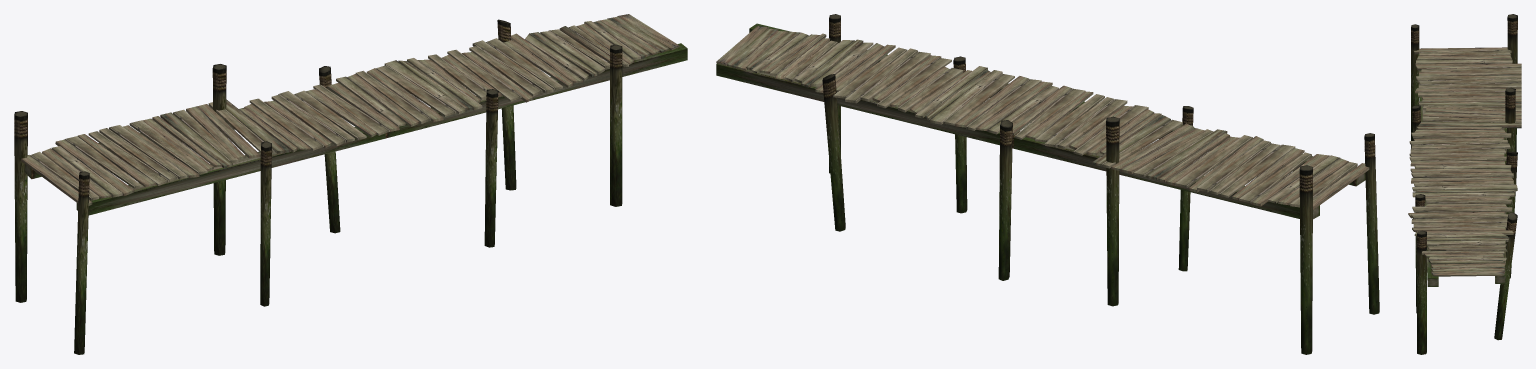
Rendered from pier_walkway.fbx.
3 renders of one model, left to right at view 1: azimuth 30°, elevation 25°; view 2: azimuth 150°, elevation 25°; view 3: azimuth 270°, elevation 25°, orthographic. The views are drawn at different scales.
Visible parts, largest first — view 1: support_1, pylon_13, pylon_2, pylon_5, pylon_22, pylon_23, pylon_33, pylon_16, pylon_15, plank_9, plank_86, plank_88 (+45 smaller); view 2: support_2, pylon_13, pylon_33, pylon_5, pylon_15, pylon_16, pylon_22, pylon_23, plank_9, plank_86, plank_88, plank_13 (+42 smaller); view 3: pylon_2, pylon_16, pylon_5, plank_49, pylon_33, plank_13, plank_92, pylon_13, plank_7, plank_86, plank_8, plank_6 (+58 smaller).
Part boxes in pixels (x1,y1,x2,y2): support_1: (76,43,687,215); pylon_13: (14,111,27,302); pylon_2: (610,44,622,206); pylon_5: (74,171,89,354); pylon_22: (484,89,498,247); pylon_23: (260,141,271,306); pylon_33: (212,64,226,255); pylon_16: (497,19,516,190); pylon_15: (319,66,340,233); plank_9: (376,65,456,116); plank_86: (129,120,207,174); plank_88: (88,131,169,185); support_2: (716,63,1319,219); pylon_13: (1299,165,1312,354); pylon_33: (1106,116,1119,306); pylon_5: (1364,133,1379,314); pylon_15: (998,120,1012,280); pylon_16: (822,74,845,231); pylon_22: (953,56,967,213); pylon_23: (1178,106,1193,271); plank_9: (943,73,1014,125); plank_86: (1175,135,1252,187); plank_88: (1219,144,1295,197); plank_13: (877,57,951,108); pylon_2: (1417,230,1426,354); pylon_16: (1494,212,1517,340); pylon_5: (1411,24,1419,148); plank_49: (1411,132,1511,138); pylon_33: (1505,87,1515,151); plank_13: (1412,206,1512,212); plank_92: (1418,82,1521,88); pylon_13: (1507,14,1517,152); plank_7: (1418,121,1521,128); plank_86: (1418,91,1521,96); plank_8: (1411,177,1513,183); plank_6: (1411,172,1513,177).
Bounding box in the file's own units: 16113 × 4753 × 3320.
Materials: 2 (2 with a texture image).
